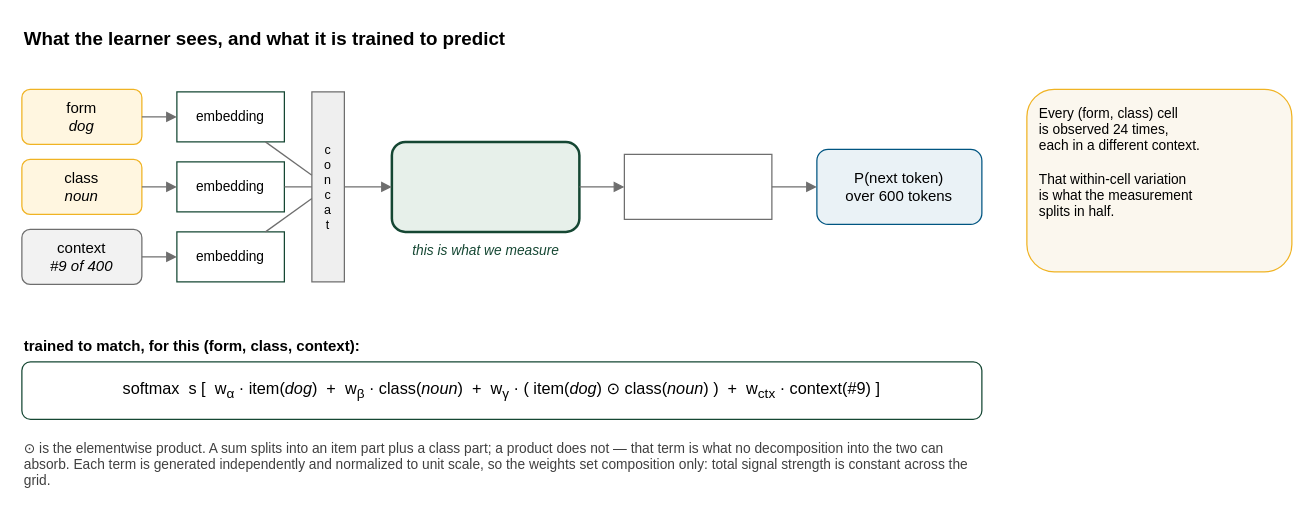
Image size: 1314x523. Some labels were removed from this diagram. The centre of each missing label's shape, as x and y in pixels:
hidden layer h = φ(W₁ · concat) φ = identity or ReLU: [485,186]
linear readout W₂ h: [697,186]
